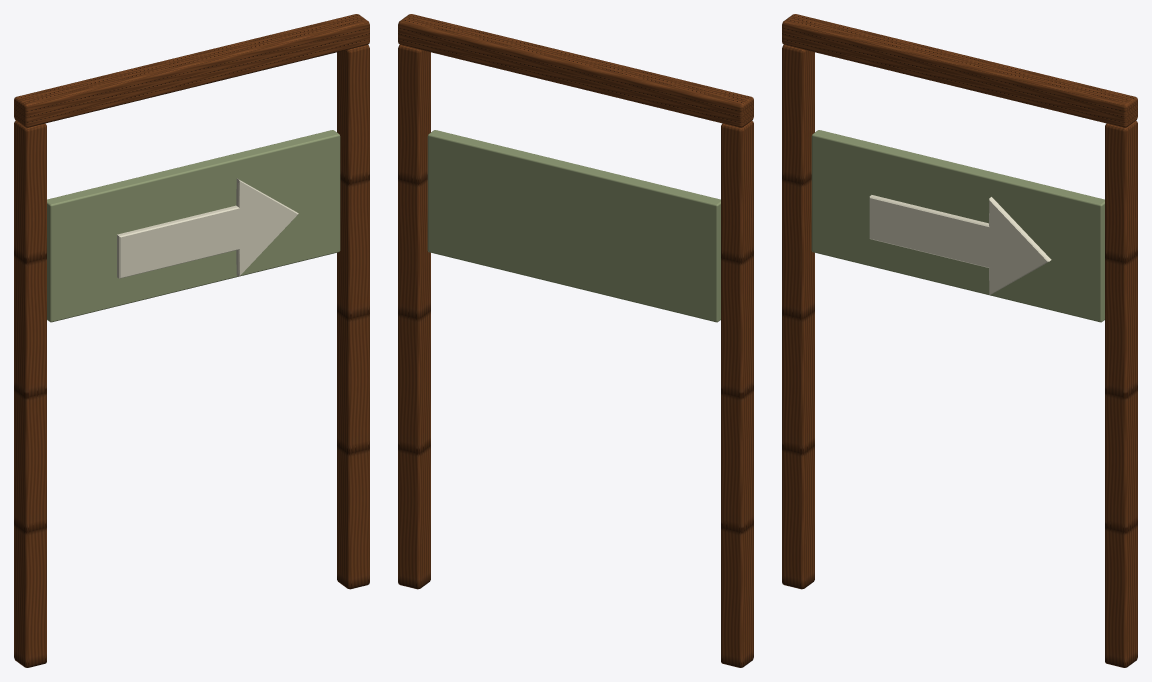
3 renders of one model, left to right at view 1: azimuth 30°, elevation 25°; view 2: azimuth 150°, elevation 25°; view 3: azimuth 330°, elevation 25°, orthographic.
Visible parts, largest first — view 1: trade-open-sign; view 2: trade-open-sign; view 3: trade-open-sign.
Part boxes in pixels (left/top/right/bottom): trade-open-sign: left=14, top=14, right=369, bottom=667; trade-open-sign: left=398, top=14, right=753, bottom=667; trade-open-sign: left=782, top=14, right=1137, bottom=667.
Bounding box in the file's own units: 1.07 × 1.67 × 0.085.
3 materials, 1 textured.
